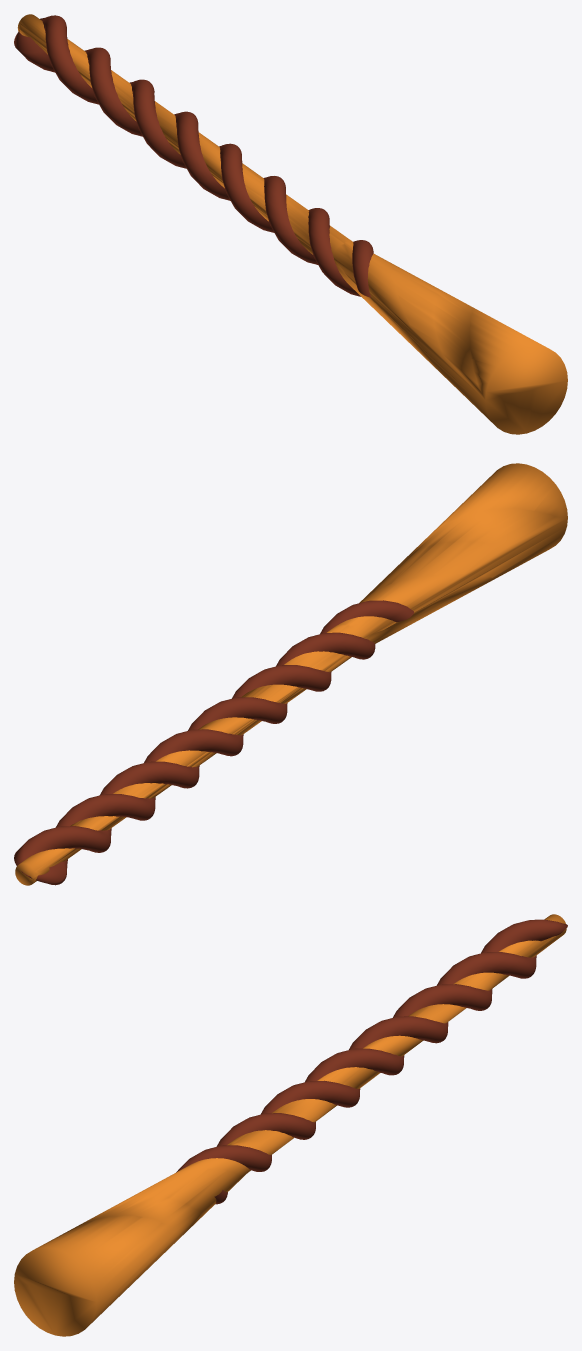
Rendered from ElegantWand.fbx.
The picture shows the model from 3 angles, top to bottom: view 1: azimuth 30°, elevation 25°; view 2: azimuth 150°, elevation 25°; view 3: azimuth 330°, elevation 25°; orthographic projection.
Parts seen in each view (by area): view 1: ElegantWand; view 2: ElegantWand; view 3: ElegantWand.
Part boxes in pixels (box(x1,y1,x2,y2)): ElegantWand: box(14, 14, 567, 434); ElegantWand: box(14, 463, 567, 885); ElegantWand: box(14, 914, 567, 1336).
Bounding box in the file's own units: 59.32 × 5.66 × 5.66.
